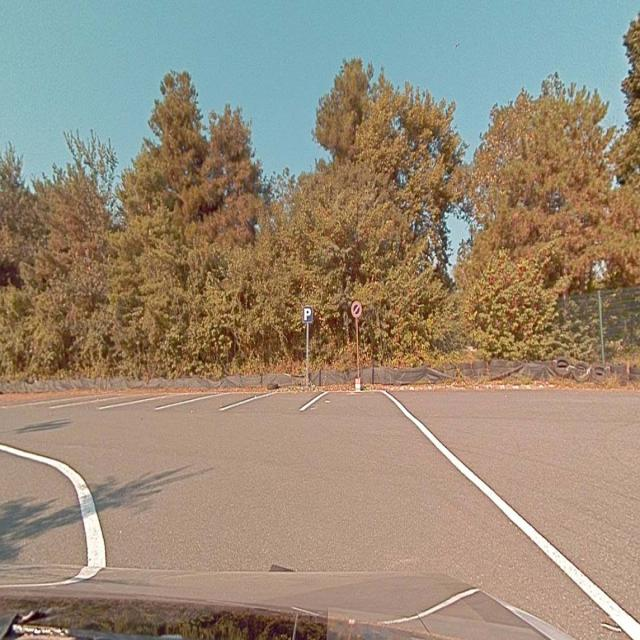park: (303, 306, 313, 324)
parkyasak: (351, 302, 362, 317)
